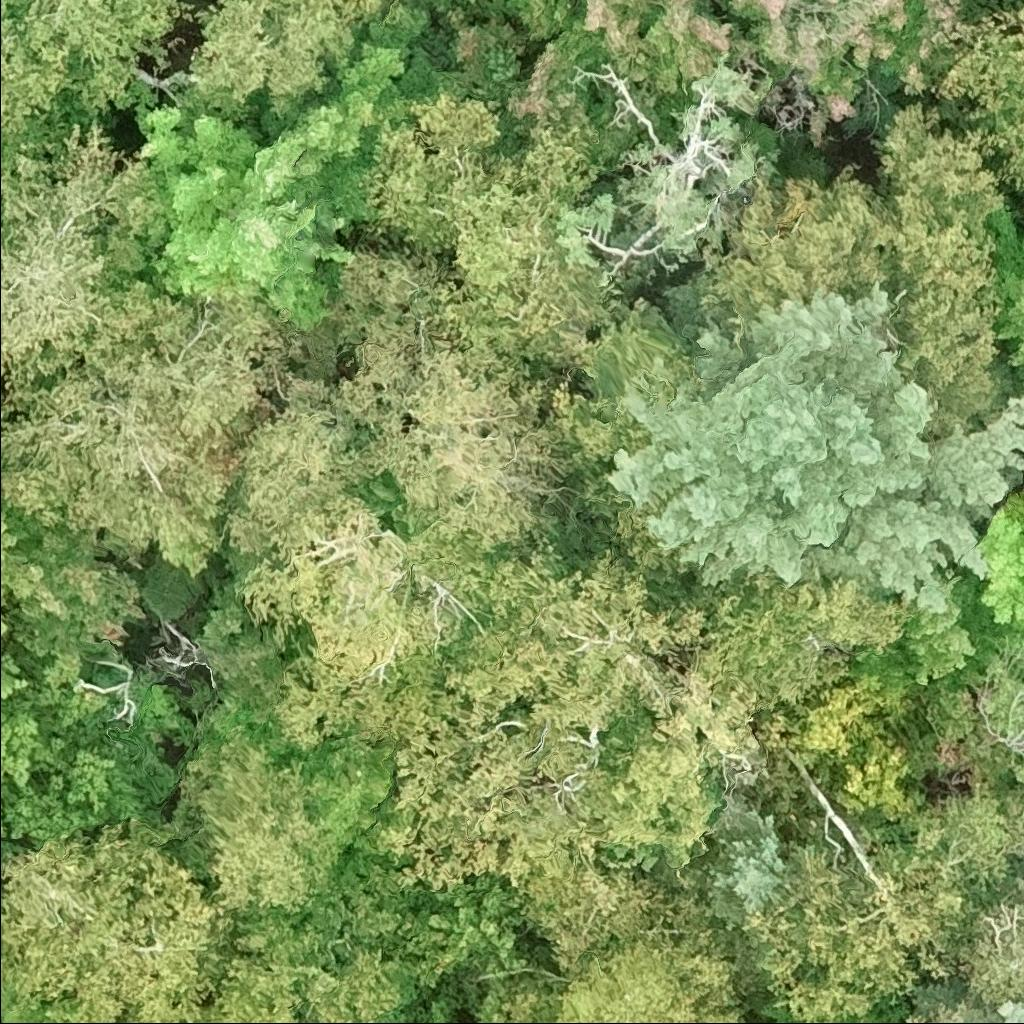crown: (0, 119, 314, 576), (606, 273, 1023, 616), (223, 378, 573, 770), (378, 546, 758, 892), (331, 240, 582, 554), (359, 87, 613, 370), (745, 779, 1023, 1023), (134, 103, 356, 335), (0, 816, 234, 1023), (191, 862, 449, 1023), (158, 724, 347, 920), (499, 0, 760, 138), (697, 160, 892, 319), (690, 574, 910, 708), (882, 189, 1003, 426), (521, 836, 712, 977), (0, 0, 181, 133), (499, 928, 749, 1023), (0, 504, 148, 652), (847, 560, 1014, 686), (189, 0, 384, 101), (420, 876, 549, 1023), (872, 106, 1012, 236), (932, 0, 1023, 192), (680, 809, 795, 938), (4, 609, 112, 742), (26, 731, 149, 823), (954, 871, 1023, 999), (0, 776, 103, 848), (977, 473, 1023, 631), (985, 206, 1023, 386), (0, 694, 58, 788), (909, 980, 1023, 1023), (506, 0, 573, 41), (412, 0, 520, 25), (0, 649, 30, 719), (876, 1003, 970, 1023), (405, 998, 465, 1023), (0, 816, 32, 859), (0, 53, 13, 131), (837, 1016, 868, 1023), (1012, 858, 1023, 876)
